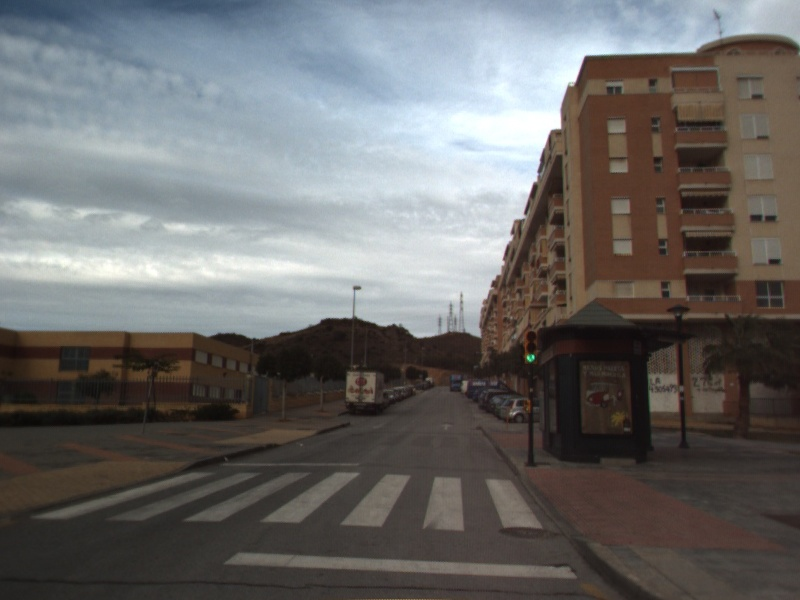STRAIGHT: (440, 421, 455, 431)
